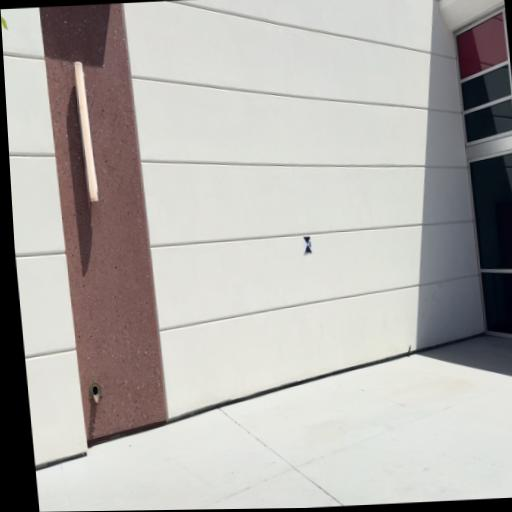target0: (302, 234, 312, 255)
